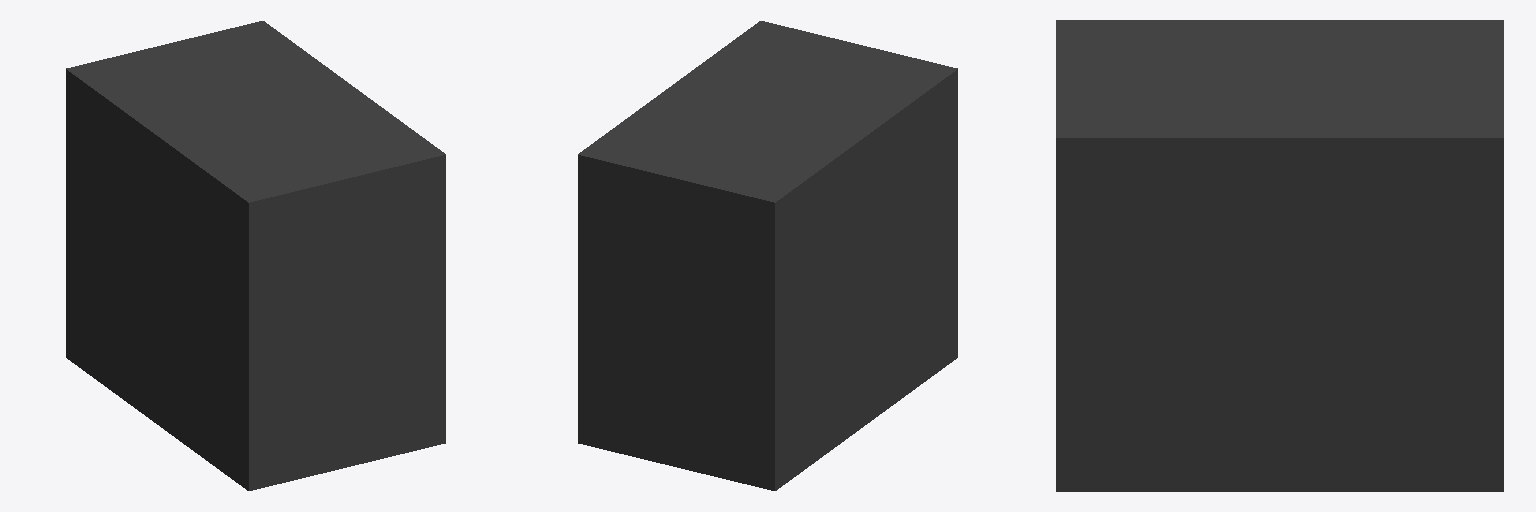
robot.urdf — box.urdf:
<?xml version="1.0" ?>
<robot name="box.urdf">
  <link name="baseLink">
    <contact>
      <lateral_friction value="1.0"/>
      <rolling_friction value="0.0001"/>
      <inertia_scaling value="3.0"/>
    </contact>
    <inertial>
      <origin rpy="0 0 0" xyz="0 0 0"/>
       <mass value="0.1"/>
       <inertia ixx="1" ixy="0" ixz="0" iyy="1" iyz="0" izz="1"/>
    </inertial>
    <visual>
      <origin rpy="0 0 0" xyz="0 0 0"/>
      <geometry>
        <!-- <box size="0.129 0.207 0.18"/> -->
        <mesh filename="box/box.obj" scale="0.129 0.207 0.18"/>
      </geometry>
      <material name="white">
        <color rgba="0.3 0.3 0.3 1"/>
      </material>
    </visual>
    <collision>
      <origin rpy="0 0 0" xyz="0 0 0"/>
      <geometry>
        <mesh filename="box/box.obj" scale="0.129 0.207 0.18"/>
	 	    <!-- <box size="0.129 0.207 0.18"/> -->
      </geometry>
    </collision>
  </link>
</robot>

--- Render facts (derived) ---
3 views of the same robot in one strip: view 1: azimuth 30°, elevation 25°; view 2: azimuth 150°, elevation 25°; view 3: azimuth 270°, elevation 25° (orthographic).
Model box.urdf with 1 links and 0 joints (none), rooted at baseLink, posed all joints at 0.
Visible links, largest first — view 1: baseLink; view 2: baseLink; view 3: baseLink.
Boxes of the visible links, <box> form: baseLink: <box>66,21,445,490</box>; baseLink: <box>578,21,957,490</box>; baseLink: <box>1056,20,1503,491</box>.
Bounding box of the posed robot: 0.129 × 0.207 × 0.18 m (x, y, z).
1 mesh visuals loaded from 1 distinct referenced files (1 OBJ).
